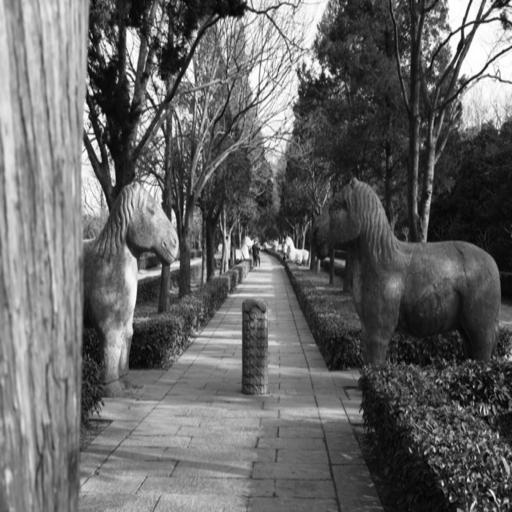horse: (308, 175, 500, 369), (83, 177, 180, 385)
